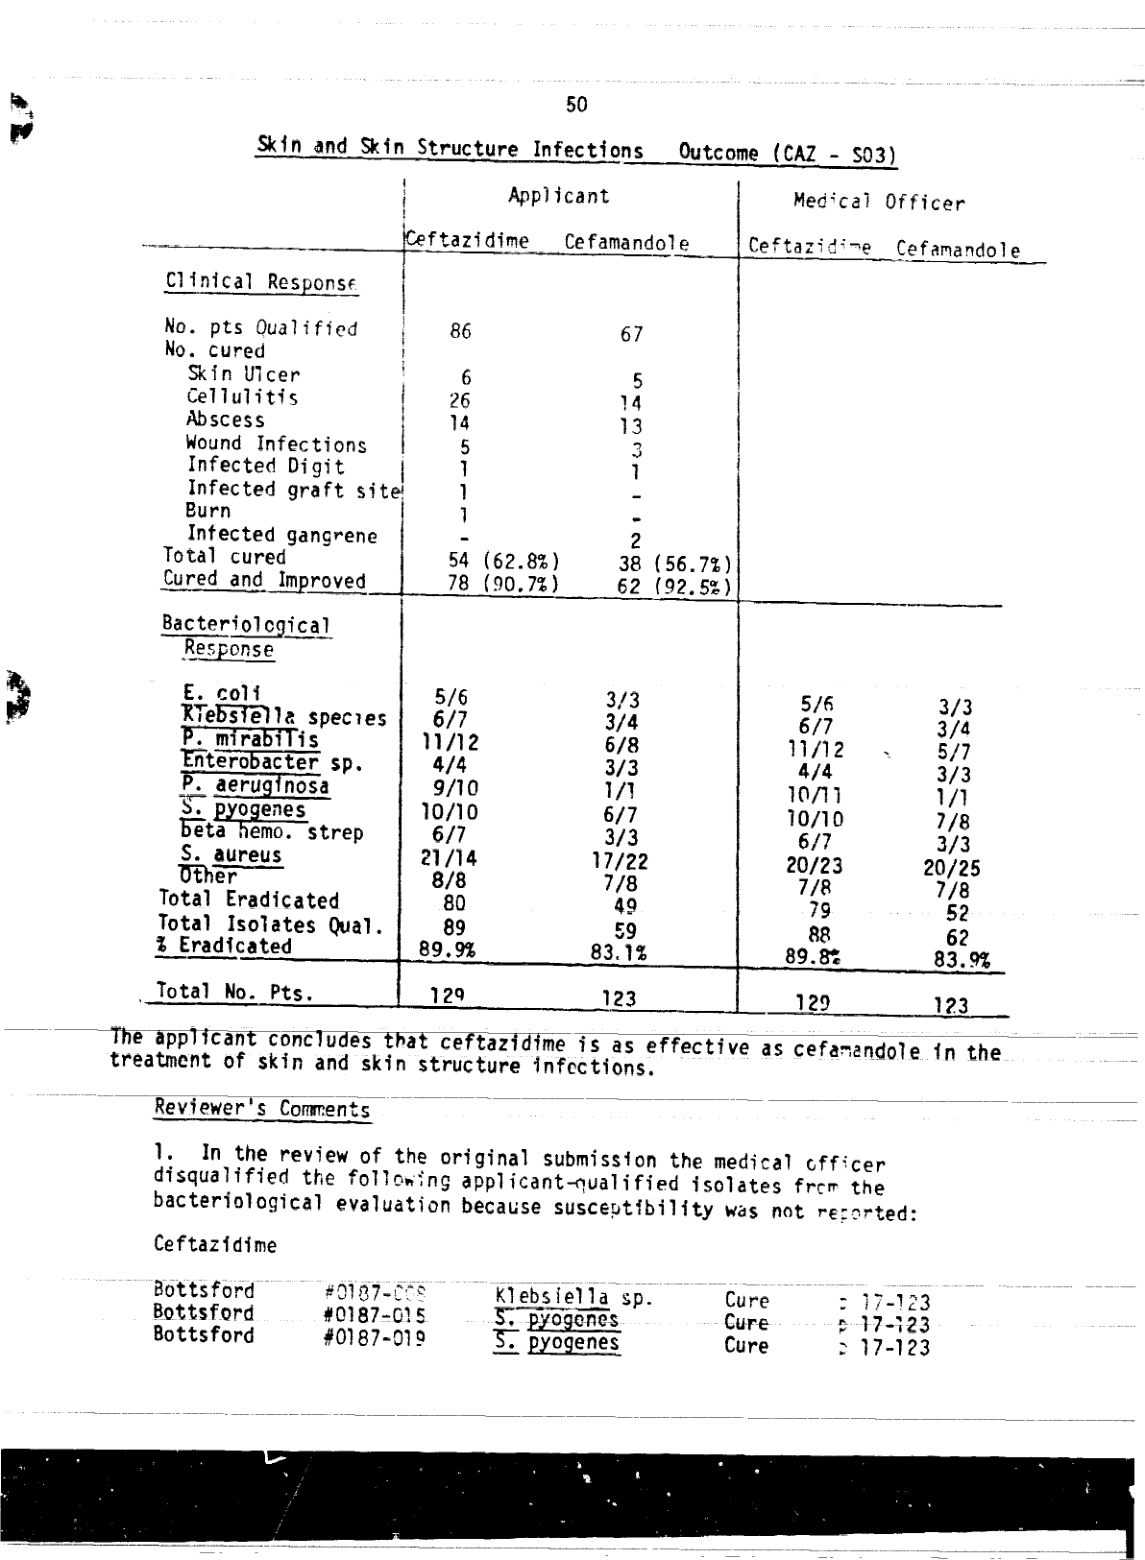nolines: (141, 1271, 951, 1367)
partial_lined_merged_cells: (134, 172, 1053, 1023)
